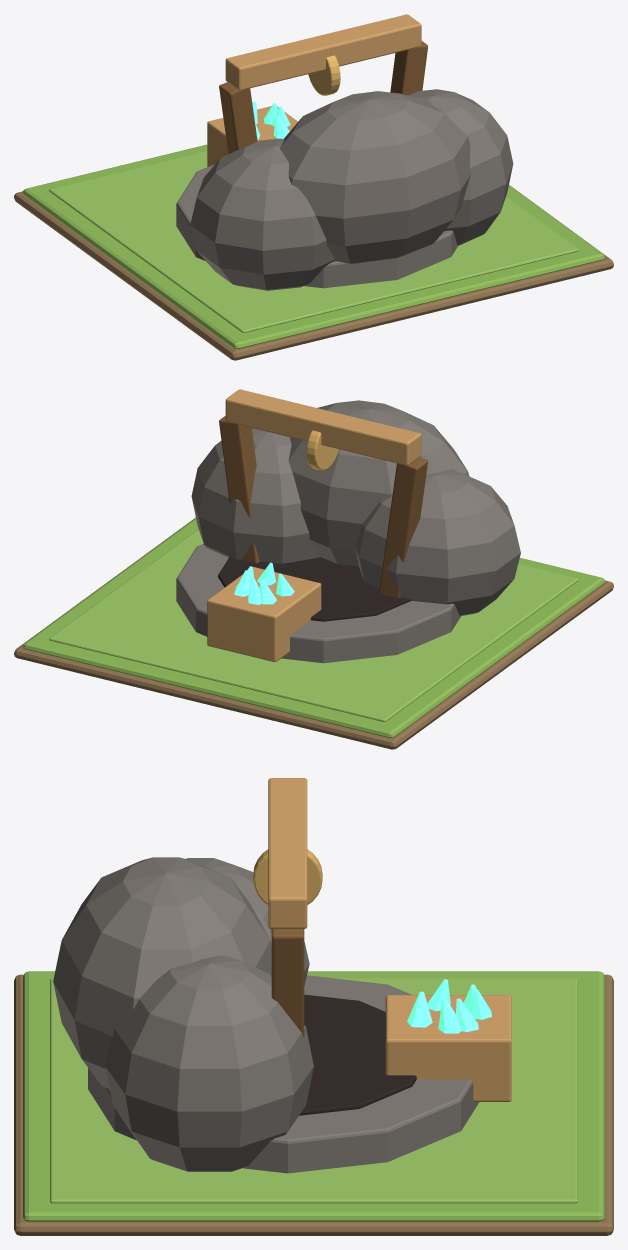
The model's file is gem_mine_lv5.glb.
3 renders of one model, top to bottom at view 1: azimuth 30°, elevation 25°; view 2: azimuth 150°, elevation 25°; view 3: azimuth 270°, elevation 25°, orthographic. The views are drawn at different scales.
Parts seen in each view (by area): view 1: GemRock_2, Base_Inner, GemRock_0, Base_Grass, Base_Dirt, GemHoistBeam, GemRock_1, QuarryPitRim, GemHoistPost_-1, GemHoistPost_1, GemCartBody, GemPulley; view 2: Base_Inner, GemRock_0, Base_Grass, GemRock_2, GemRock_1, QuarryPitRim, Base_Dirt, GemHoistBeam, GemCartBody, QuarryPitHole, GemHoistPost_-1, GemHoistPost_1 (+1 smaller); view 3: Base_Inner, GemRock_1, Base_Grass, GemRock_2, QuarryPitRim, Base_Dirt, GemCartBody, QuarryPitHole, GemHoistBeam, GemHoistPost_1, GemRock_0, GemPulley.
Part boxes in pixels (x1,y1,x2,y2): GemRock_2: [280, 91, 471, 264]; Base_Inner: [49, 151, 578, 332]; GemRock_0: [190, 138, 334, 290]; Base_Grass: [23, 144, 604, 348]; Base_Dirt: [14, 185, 613, 360]; GemHoistBeam: [225, 14, 421, 90]; GemRock_1: [408, 89, 513, 245]; QuarryPitRim: [176, 164, 457, 288]; GemHoistPost_-1: [219, 82, 257, 154]; GemHoistPost_1: [390, 41, 427, 95]; GemCartBody: [207, 106, 297, 166]; GemPulley: [308, 55, 340, 95]; Base_Inner: [49, 529, 578, 721]; GemRock_0: [355, 469, 520, 615]; Base_Grass: [23, 518, 604, 737]; GemRock_2: [288, 400, 469, 566]; GemRock_1: [191, 428, 320, 563]; QuarryPitRim: [176, 544, 460, 663]; Base_Dirt: [14, 517, 613, 749]; GemHoistBeam: [225, 389, 421, 465]; GemCartBody: [207, 567, 321, 662]; QuarryPitHole: [218, 556, 411, 621]; GemHoistPost_-1: [379, 457, 427, 597]; GemHoistPost_1: [219, 416, 259, 563]; Base_Inner: [50, 978, 577, 1203]; GemRock_1: [105, 955, 313, 1171]; Base_Grass: [23, 971, 604, 1221]; GemRock_2: [53, 857, 271, 1088]; QuarryPitRim: [88, 975, 479, 1173]; Base_Dirt: [14, 974, 613, 1235]; GemCartBody: [385, 995, 511, 1101]; QuarryPitHole: [299, 994, 416, 1115]; GemHoistBeam: [268, 778, 307, 928]; GemHoistPost_1: [271, 929, 304, 1037]; GemRock_0: [186, 858, 309, 985]; GemPulley: [253, 849, 322, 904].
Bounding box in the file's own units: 2.76 × 1.41 × 2.76.
